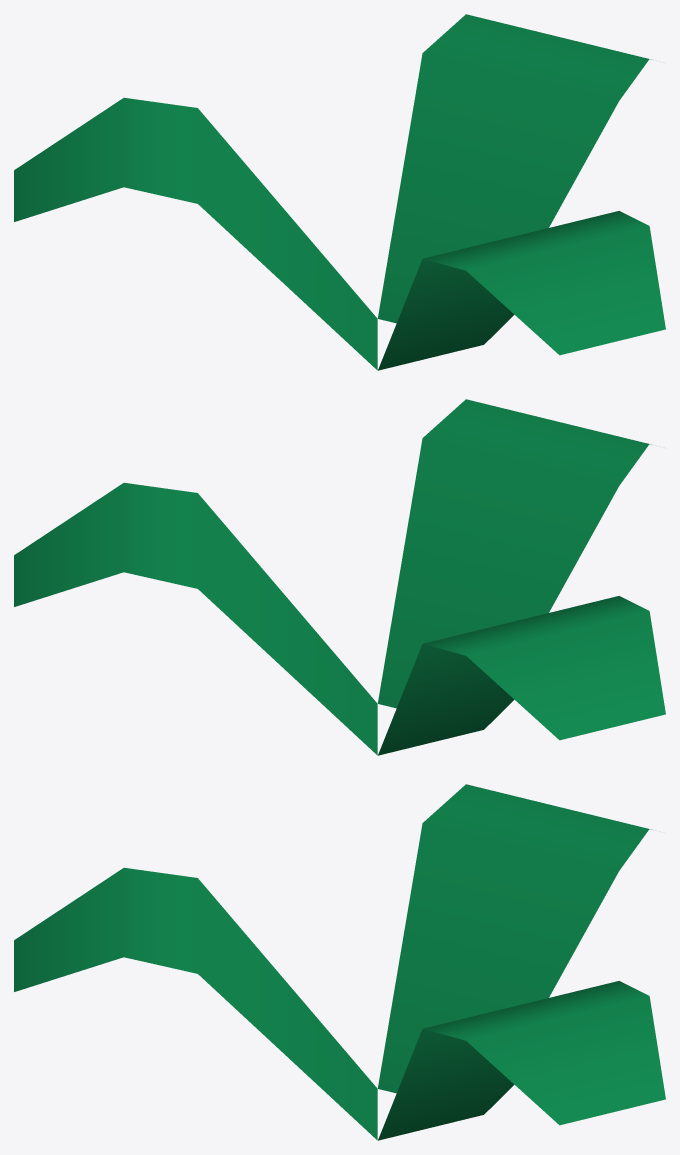
File: plant.glb
The picture shows the model from 3 angles, top to bottom: view 1: azimuth 30°, elevation 25°; view 2: azimuth 150°, elevation 25°; view 3: azimuth 270°, elevation 25°; orthographic projection.
Visible parts, largest first — view 1: plant; view 2: plant; view 3: plant.
Boxes of the visible parts, <box> form: plant: <box>14,14,665,370</box>; plant: <box>14,399,665,755</box>; plant: <box>14,784,665,1140</box>.
Size of the model in its own units: 0.5514 by 0.1635 by 0.4775.
